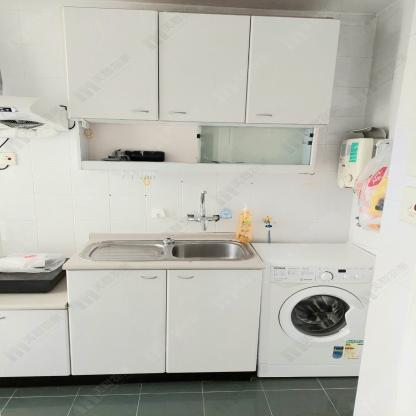Cupboard: (61, 7, 339, 170), (0, 269, 268, 374)
Exhaust Hood: (0, 93, 66, 130)
Faucet: (186, 188, 221, 232)
Sink: (82, 241, 249, 261)
Washing Machine: (250, 242, 376, 378)
